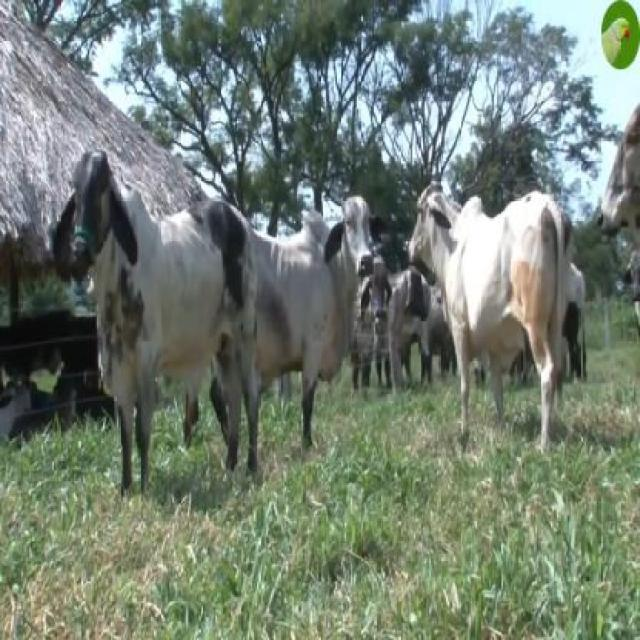Cow: (406, 185, 565, 464)
